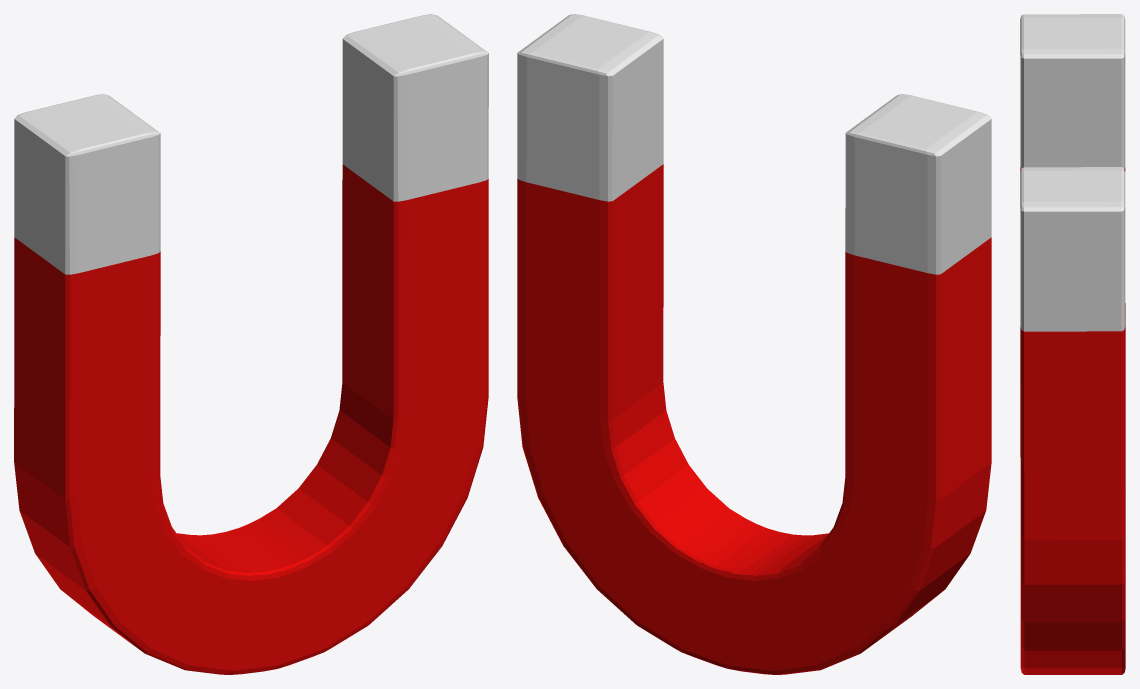
File: magnet.fbx
3 renders of one model, left to right at view 1: azimuth 30°, elevation 25°; view 2: azimuth 150°, elevation 25°; view 3: azimuth 270°, elevation 25°, orthographic. The views are drawn at different scales.
Parts seen in each view (by area): view 1: Cube.001; view 2: Cube.001; view 3: Cube.001.
Part boxes in pixels (x1,y1,x2,y2): Cube.001: (14, 14, 488, 674); Cube.001: (517, 14, 991, 674); Cube.001: (1020, 14, 1125, 674).
Bounding box in the file's own units: 557 × 714 × 126.
